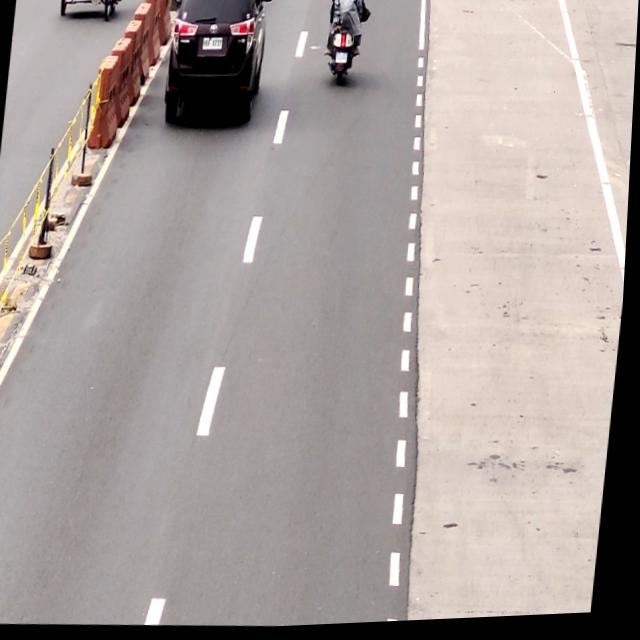Car: (158, 0, 271, 133)
License-Plate: (201, 37, 225, 55), (334, 55, 350, 68)
Motorcycle: (319, 0, 373, 94)
